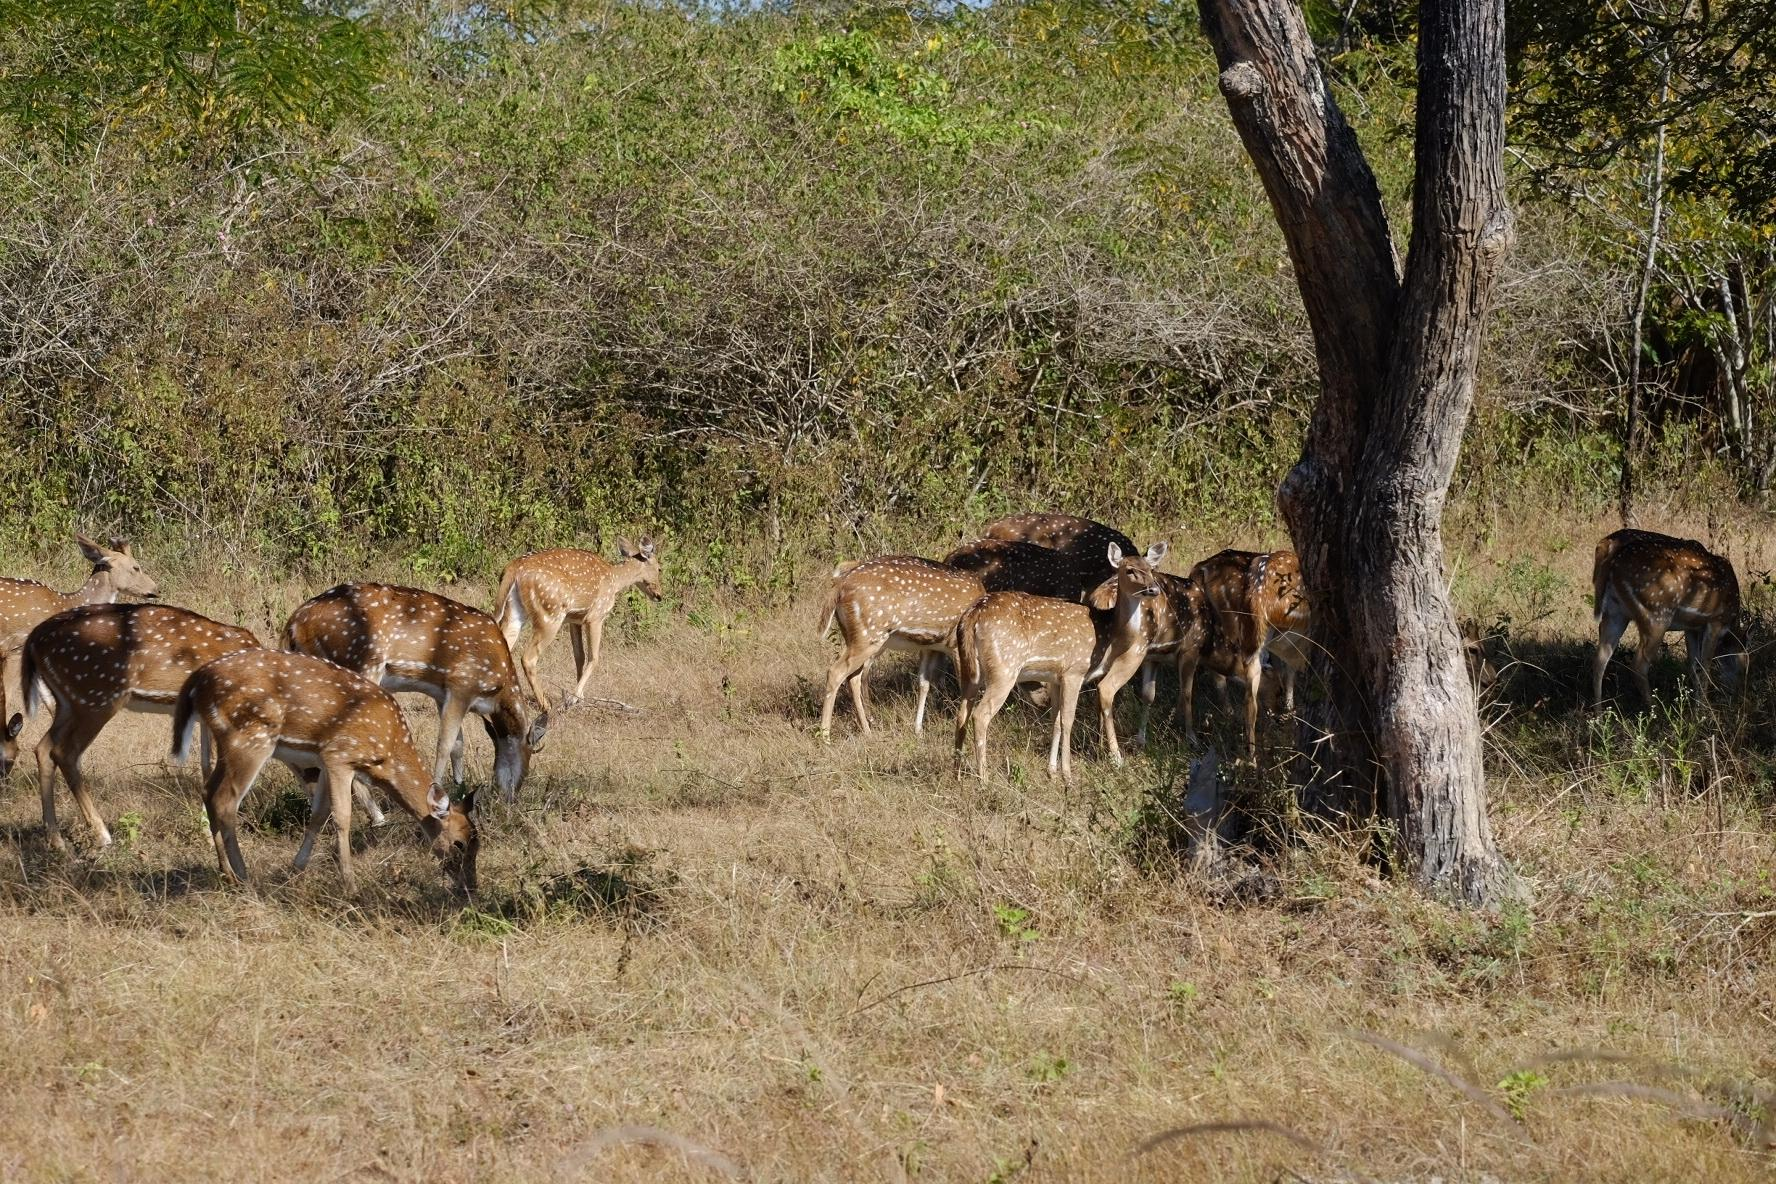Deer: (169, 647, 476, 895), (280, 581, 551, 799), (26, 604, 260, 848), (955, 542, 1167, 776), (492, 539, 662, 724), (818, 558, 984, 735), (0, 536, 156, 723), (1591, 529, 1748, 711)
